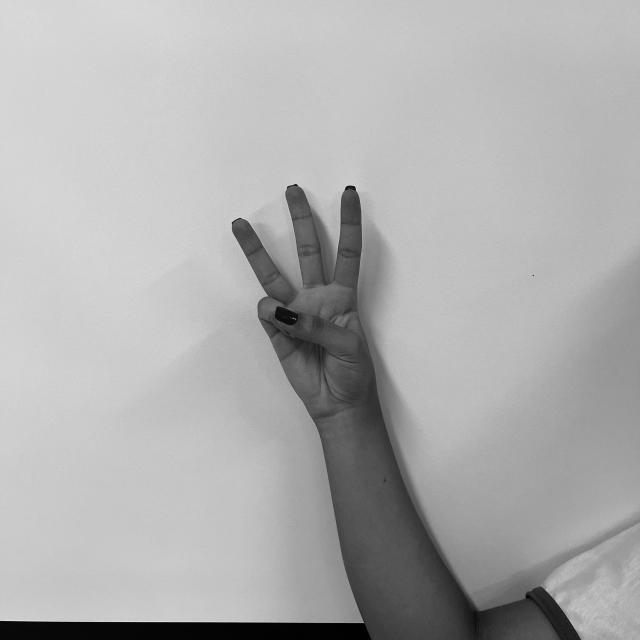Letra W: (222, 179, 382, 420)
